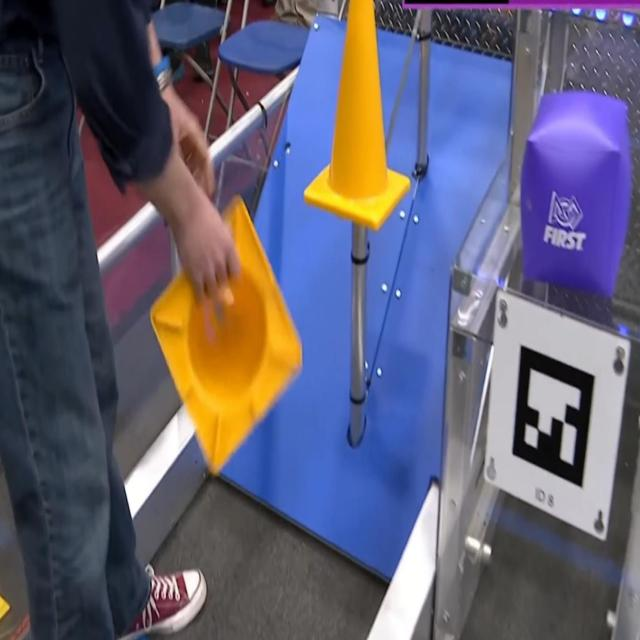frc_cone: (153, 195, 302, 470), (304, 0, 411, 232)
frc_cube: (521, 88, 632, 296)
